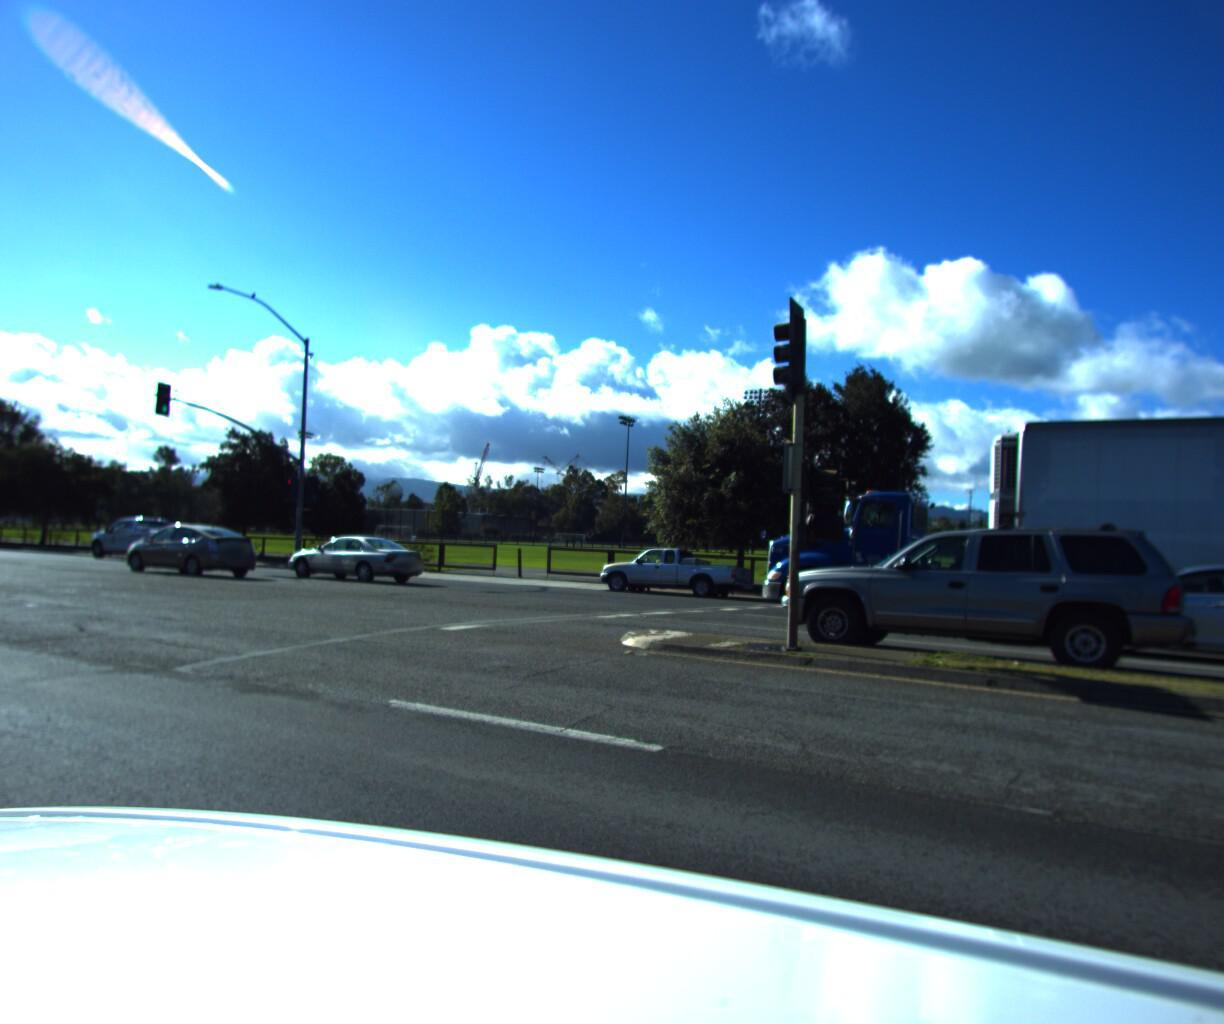car: (754, 509, 1202, 690), (1058, 545, 1224, 690), (272, 518, 435, 585), (589, 538, 757, 600), (108, 516, 255, 574), (78, 507, 210, 557)
truck: (739, 394, 1224, 697)
